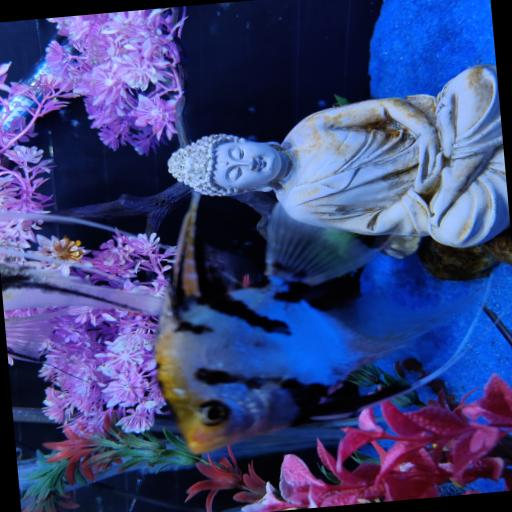Fish: (156, 193, 450, 453), (0, 264, 162, 362), (0, 264, 162, 315)
